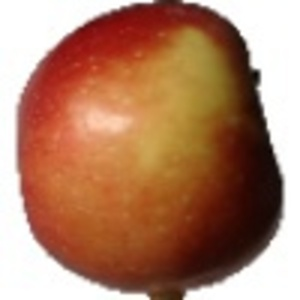maçã braeburn: (11, 2, 291, 292)
